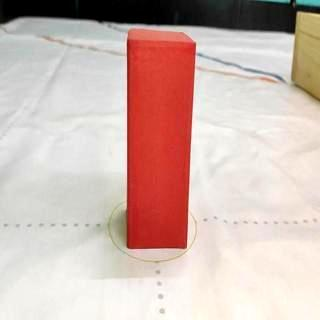redbox: (126, 28, 197, 250)
